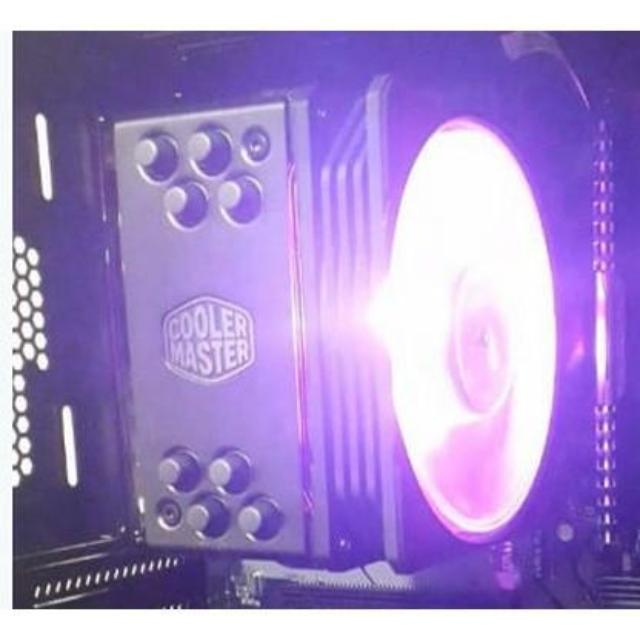CPU_Fan: (65, 89, 572, 564)
